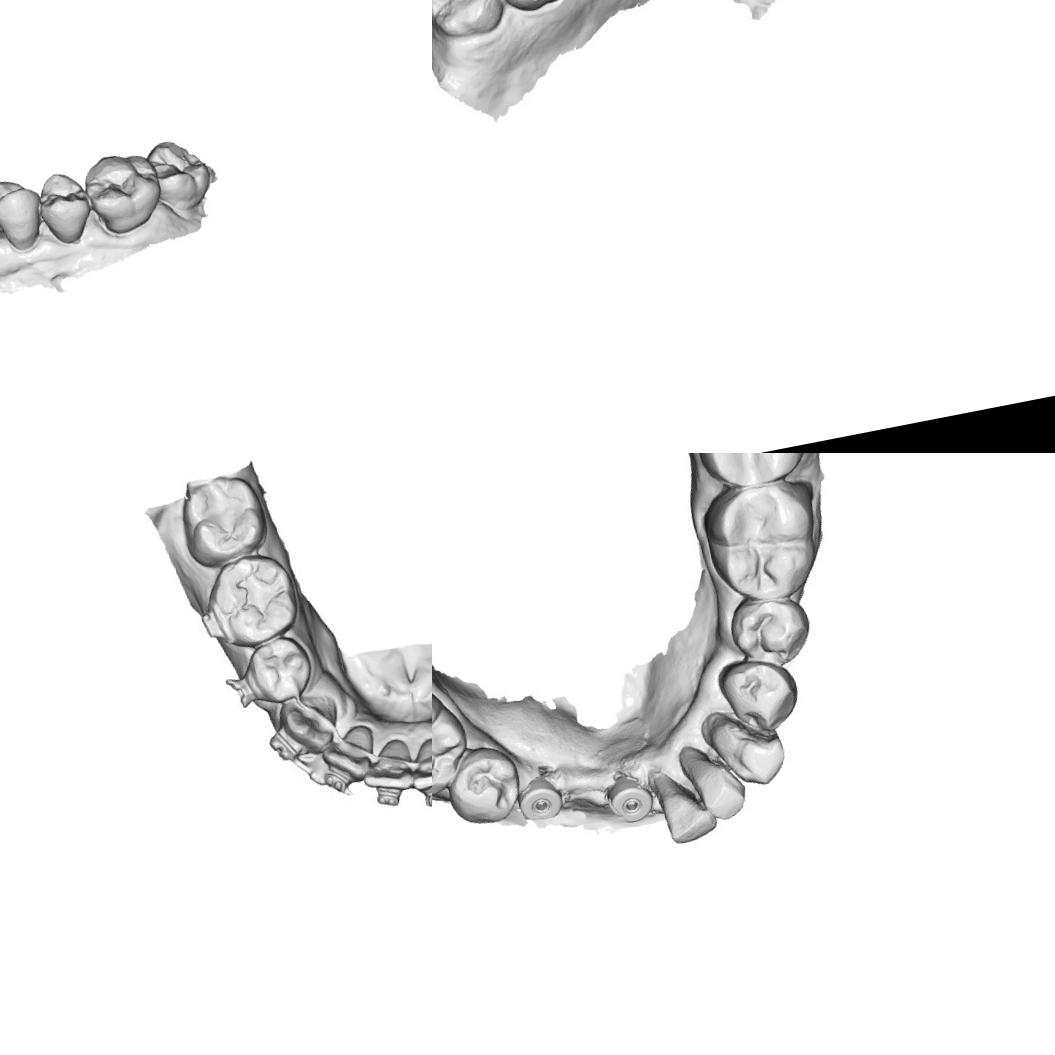canine: (705, 706, 792, 794), (274, 690, 337, 760)
implant: (515, 776, 570, 828), (608, 776, 655, 825)
incisor: (686, 752, 753, 826), (655, 778, 720, 847), (356, 730, 420, 796), (317, 721, 380, 780), (409, 736, 432, 794)
molar: (694, 473, 828, 611), (168, 468, 270, 570), (202, 549, 302, 648), (79, 146, 167, 242), (432, 663, 478, 813), (143, 133, 216, 217), (683, 453, 818, 494), (432, 0, 509, 47)
premolar: (711, 649, 806, 740), (722, 588, 816, 672), (443, 743, 526, 830), (32, 166, 96, 248), (244, 630, 313, 705), (0, 172, 48, 256)
